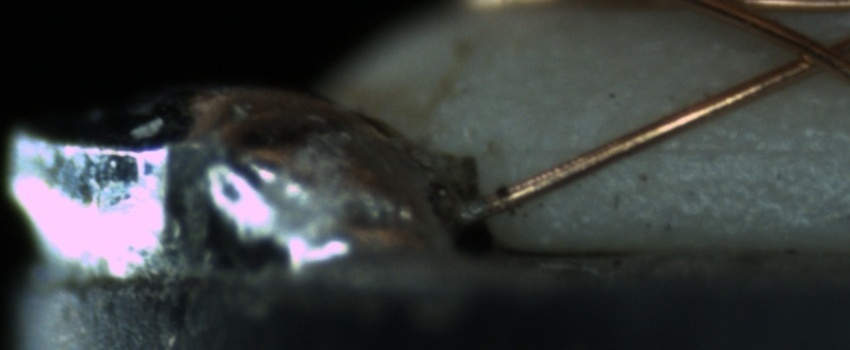CL: (773, 26, 848, 83)
DL: (523, 119, 845, 179)
